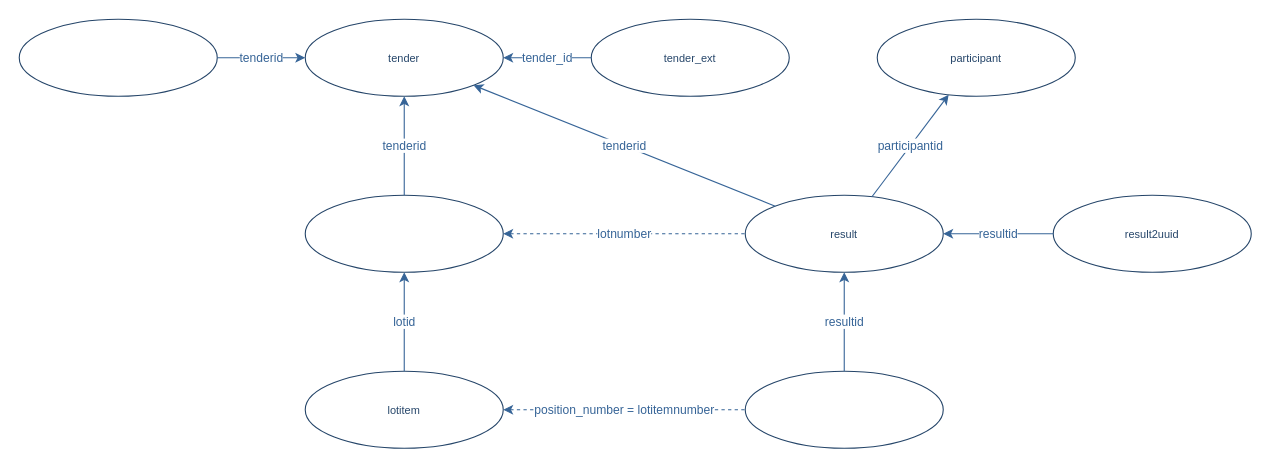
This 1271x468 diagram has some shape labels left out. The centre of each missing label's shape, as x and y in pixels:
"lot" belongs at point (403, 233).
"resultitem" belongs at point (843, 409).
"tender2uuid" belongs at point (117, 57).
